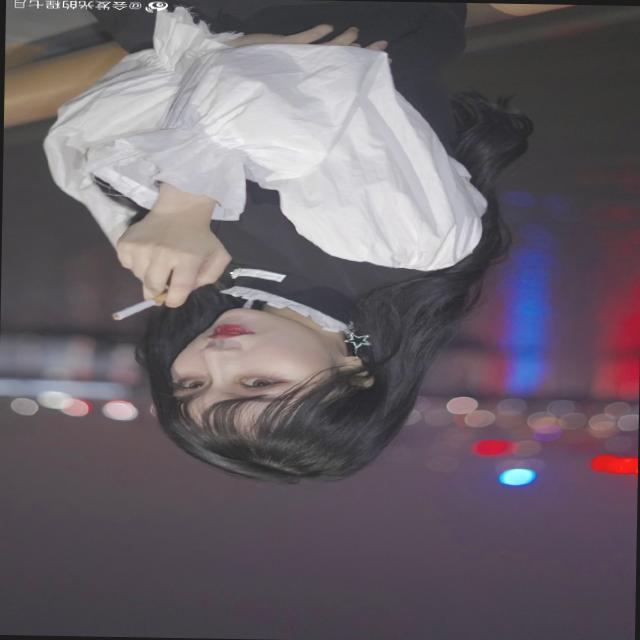cigarette: (97, 290, 161, 330)
